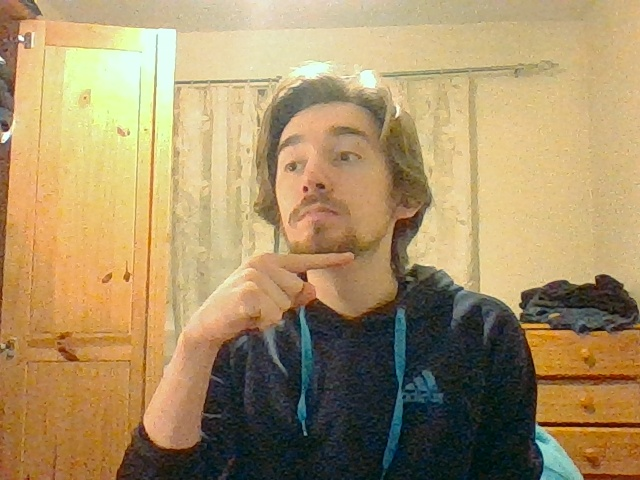son: (228, 251, 353, 330)
